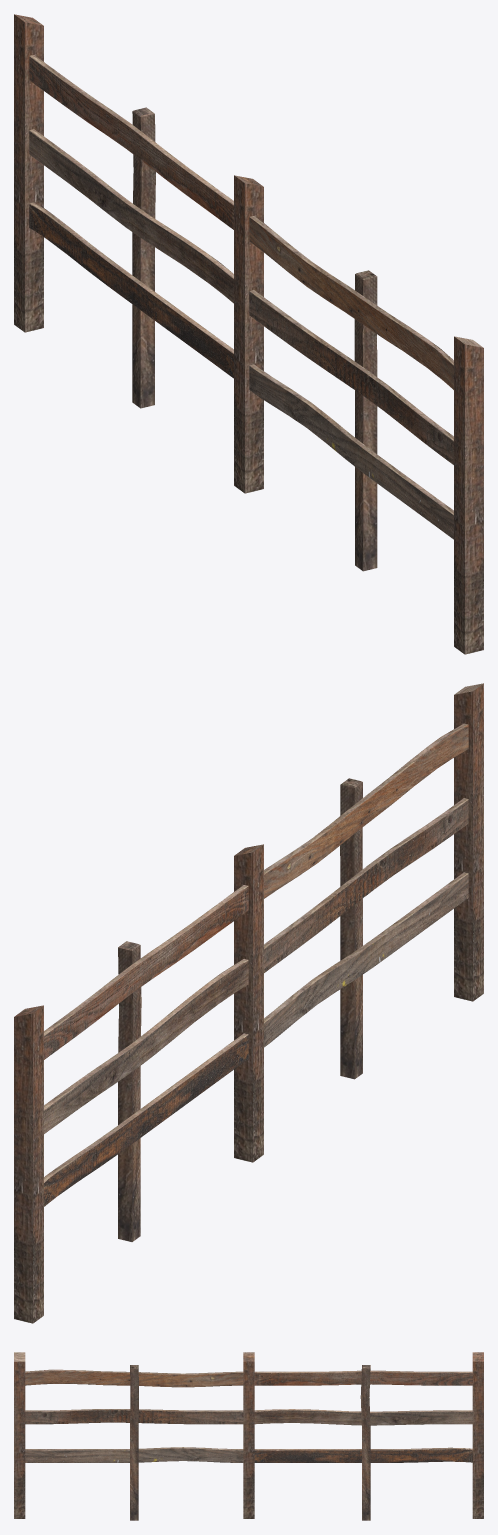
The model's file is fence5.fbx.
The picture shows the model from 3 angles, top to bottom: view 1: azimuth 30°, elevation 25°; view 2: azimuth 150°, elevation 25°; view 3: azimuth 270°, elevation 25°; orthographic projection. The views are drawn at different scales.
Parts seen in each view (by area): view 1: Plane.007; view 2: Plane.007; view 3: Plane.007.
Boxes of the visible parts, box(x1,y1,x2,y2) form: Plane.007: box(14, 14, 483, 654); Plane.007: box(14, 683, 483, 1323); Plane.007: box(14, 1352, 483, 1520).
Bounding box in the file's own units: 10.57 × 131 × 346.
1 material, 1 textured.
